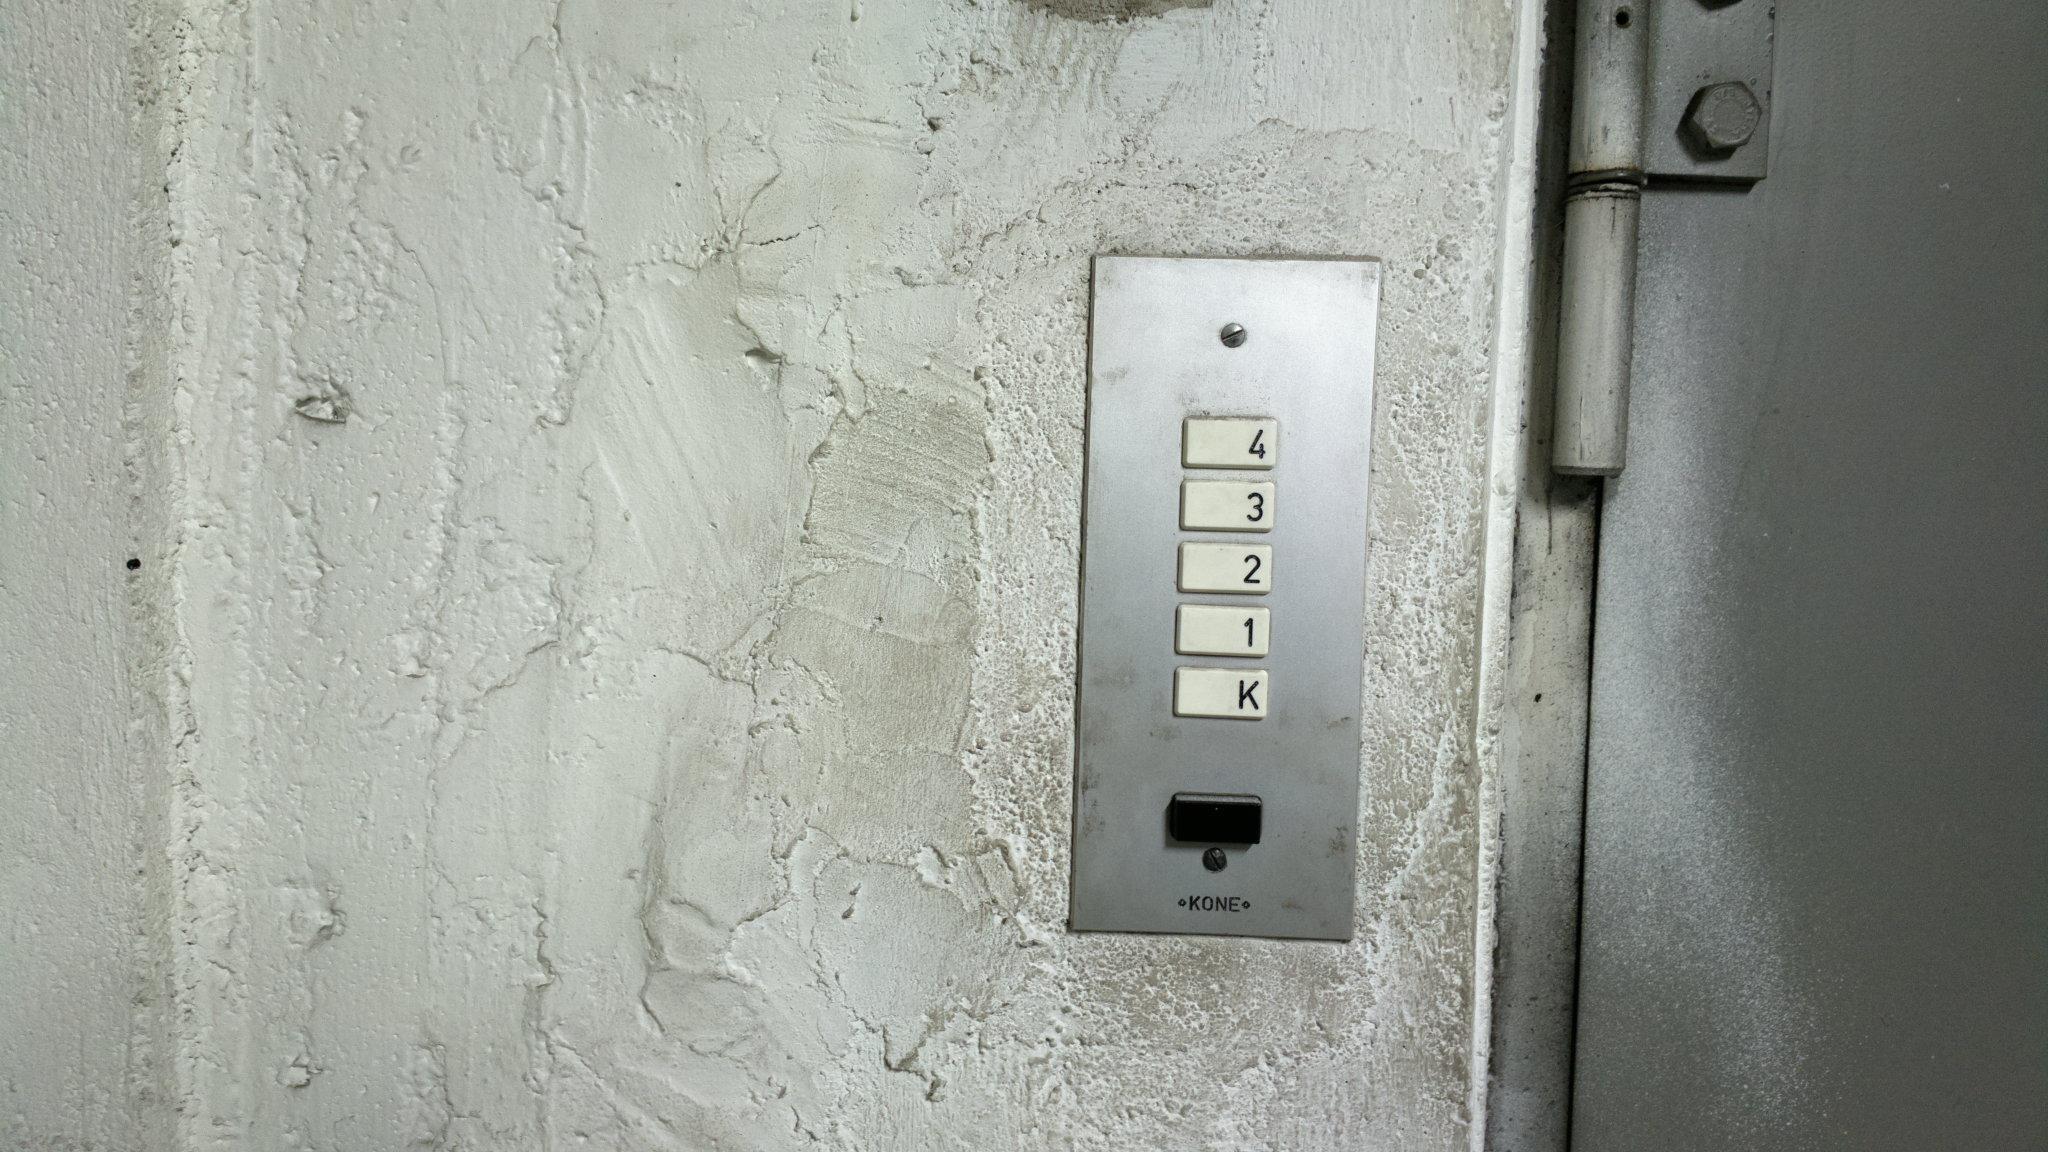1: (1169, 601, 1273, 663)
2: (1172, 535, 1276, 596)
3: (1177, 475, 1280, 539)
4: (1177, 414, 1283, 473)
K: (1170, 661, 1272, 724)
empty: (1165, 788, 1265, 850)
